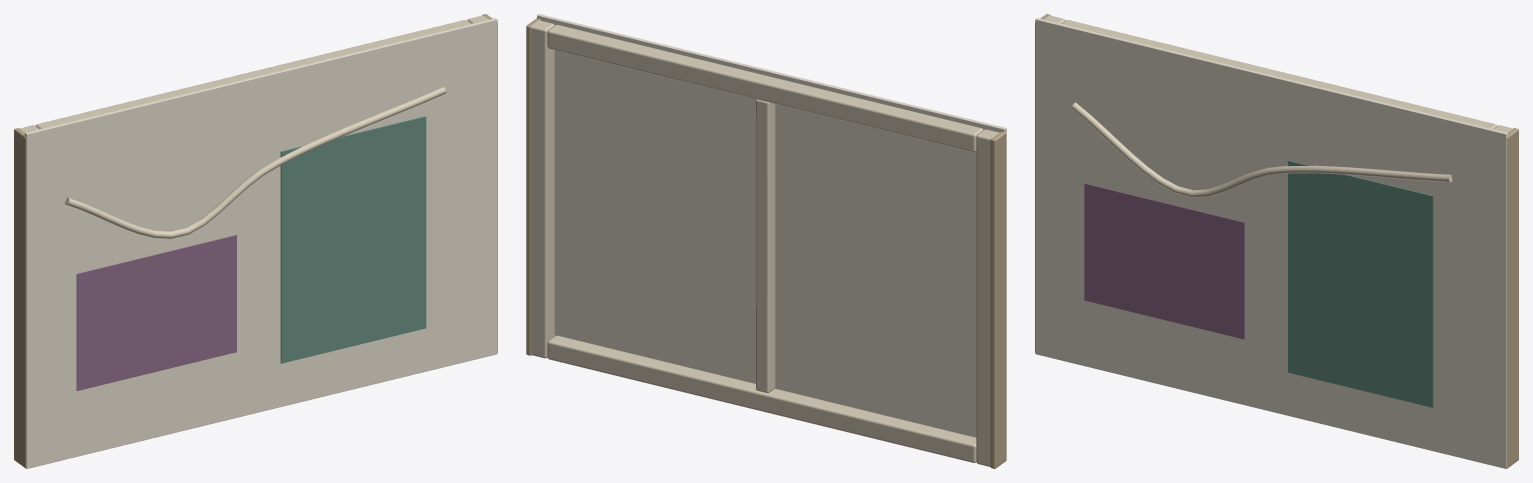
Rendered from museum-conservation-and-art-restoration-museum-conserv-51a0b3ce__31890.glb.
The picture shows the model from 3 angles, left to right: view 1: azimuth 30°, elevation 25°; view 2: azimuth 150°, elevation 25°; view 3: azimuth 330°, elevation 25°; orthographic projection.
Parts seen in each view (by area): view 1: museum-conservation-and-art-restoration-original-abstract-ca (×5); view 2: museum-conservation-and-art-restoration-original-abstract-ca (×3); view 3: museum-conservation-and-art-restoration-original-abstract-ca (×5).
Boxes of the visible parts, left/top/right/bottom form: museum-conservation-and-art-restoration-original-abstract-ca (×5): left=14, top=14, right=497, bottom=468; museum-conservation-and-art-restoration-original-abstract-ca (×3): left=526, top=14, right=1006, bottom=468; museum-conservation-and-art-restoration-original-abstract-ca (×5): left=1035, top=14, right=1518, bottom=468.
Size of the model in its own units: 1.57 by 1.06 by 0.087.
